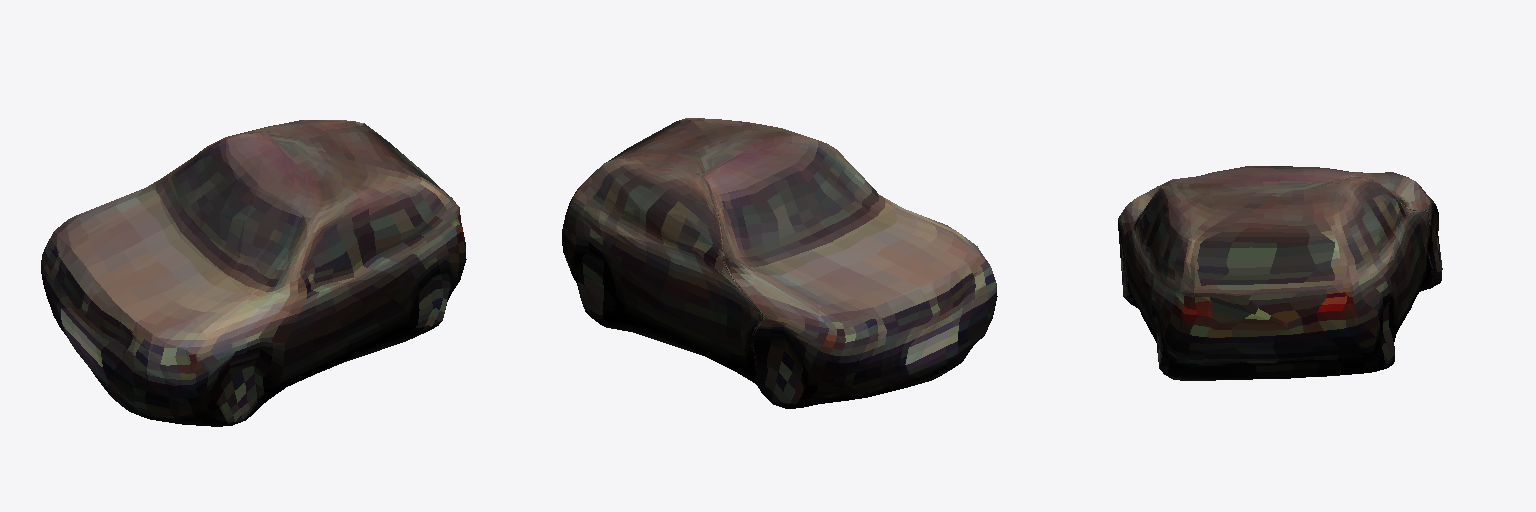
3 views of the same model, side by side, from view 1: azimuth 30°, elevation 25°; view 2: azimuth 150°, elevation 25°; view 3: azimuth 270°, elevation 25° (orthographic).
Bounding box in the file's own units: 1 × 0.5204 × 0.8101.
Materials: 1 (1 with a texture image).